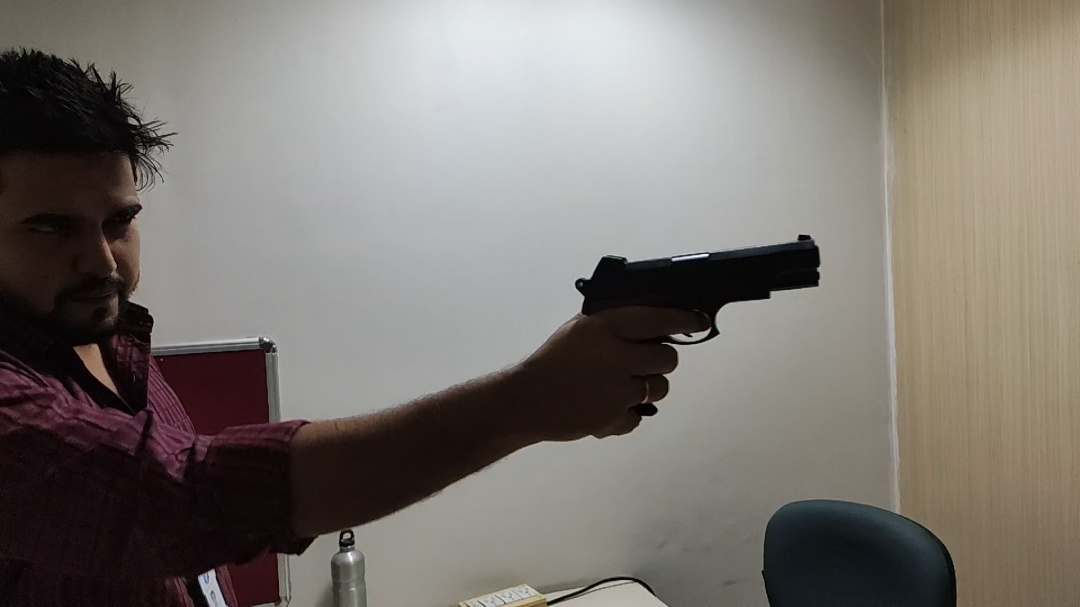gun: (570, 230, 823, 419)
